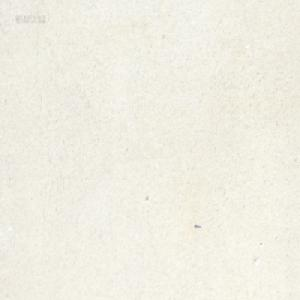Nail: (193, 223, 200, 229)
